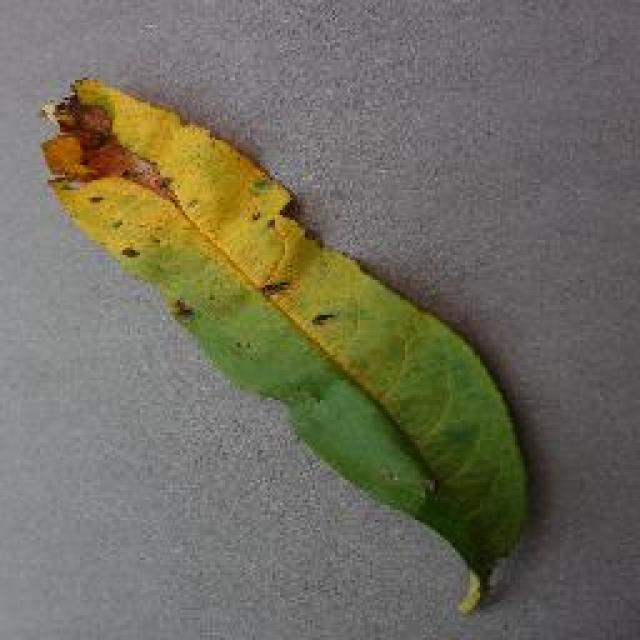Peach_Bacterial_Spot: (61, 83, 286, 315)
